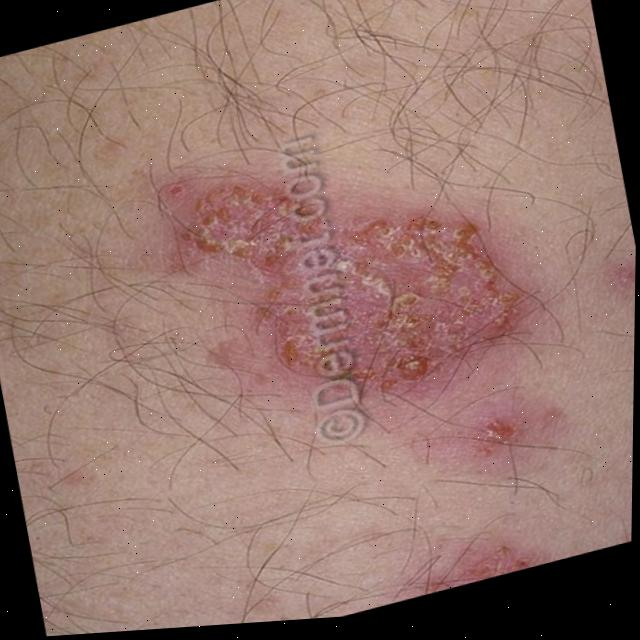Eczema: (145, 68, 550, 435), (446, 395, 532, 478), (434, 524, 521, 590)
